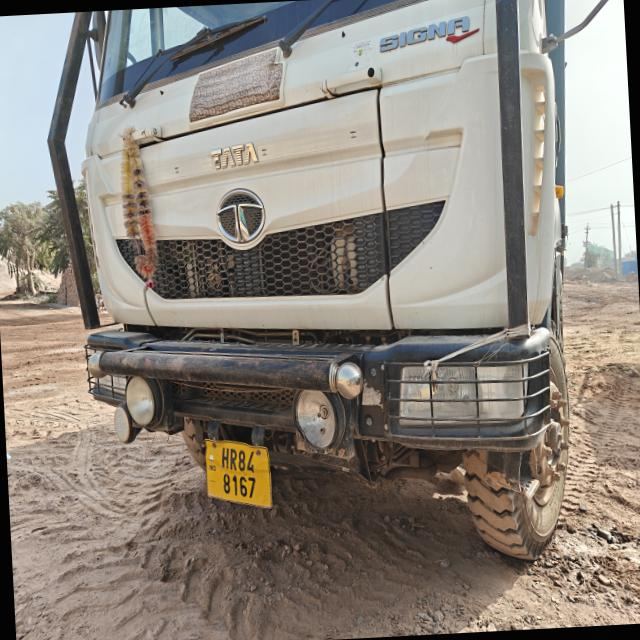license_plate: (206, 440, 272, 507)
